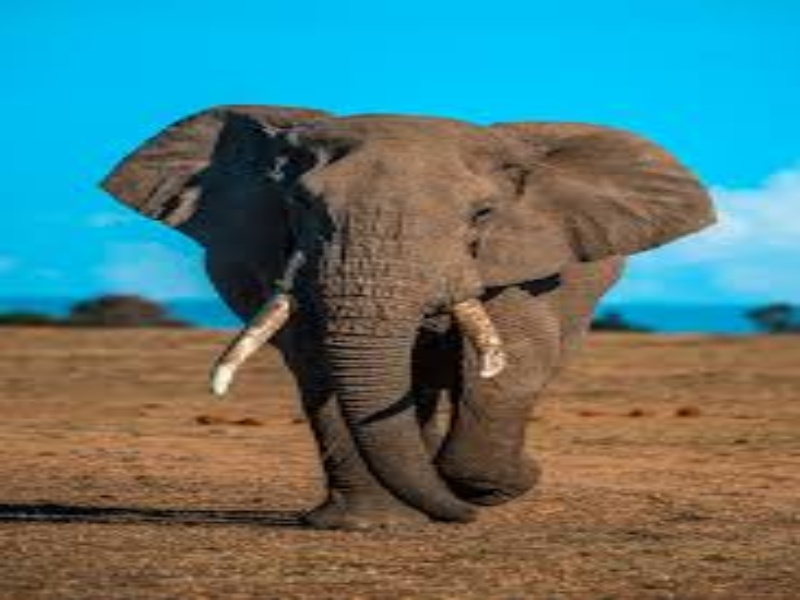elephant: (59, 65, 716, 569)
